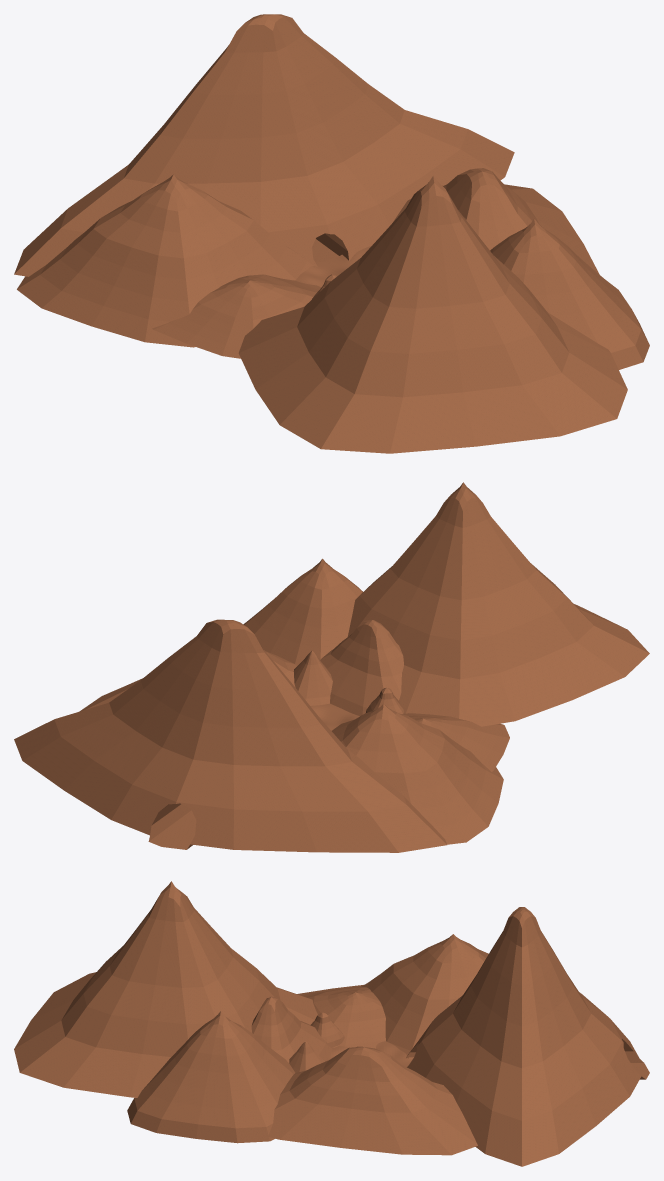
The model's file is Intro Level.fbx.
The picture shows the model from 3 angles, top to bottom: view 1: azimuth 30°, elevation 25°; view 2: azimuth 150°, elevation 25°; view 3: azimuth 270°, elevation 25°; orthographic projection. The views are drawn at different scales.
Visible parts, largest first — view 1: Cube.007; view 2: Cube.007; view 3: Cube.007.
Part boxes in pixels (box(x1,y1,x2,y2)): Cube.007: box(14, 14, 649, 453); Cube.007: box(14, 482, 649, 852); Cube.007: box(14, 881, 649, 1166).
Size of the model in its own units: 22235 by 9080 by 29938.
